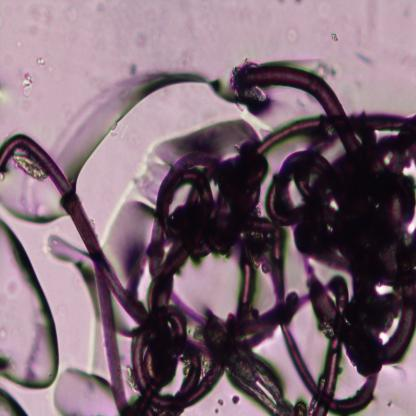Air bubble: (68, 68, 232, 188), (0, 217, 61, 391), (51, 367, 117, 415), (0, 177, 59, 227), (0, 381, 30, 415)
Background material: (312, 48, 342, 81), (17, 6, 57, 29), (123, 25, 152, 48), (350, 43, 374, 68), (19, 70, 37, 98), (122, 57, 146, 78), (283, 17, 300, 45), (67, 1, 83, 24), (36, 56, 49, 67), (331, 28, 338, 43)
Microfibre: (0, 59, 416, 414)
